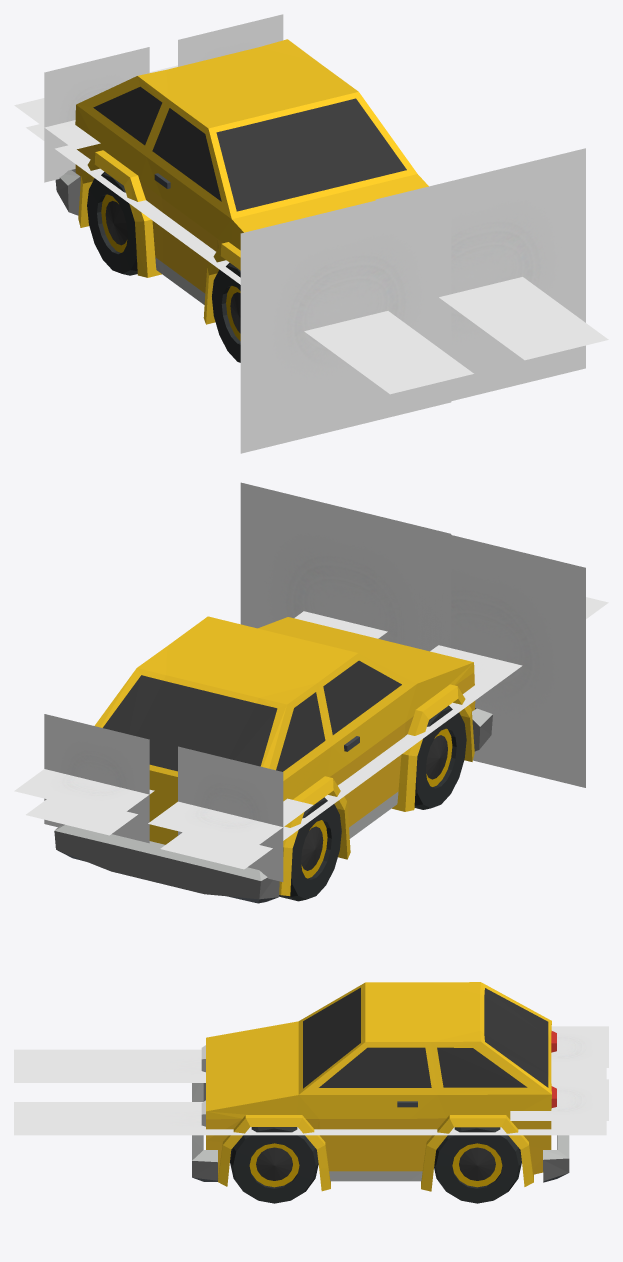
Rendered from SnowHatchback.fbx.
The picture shows the model from 3 angles, top to bottom: view 1: azimuth 30°, elevation 25°; view 2: azimuth 150°, elevation 25°; view 3: azimuth 270°, elevation 25°; orthographic projection. The views are drawn at different scales.
Visible parts, largest first — view 1: StopLightBillboard (×7), BodyMesh, Wheel (×2); view 2: StopLightBillboard (×8), BodyMesh, Wheel (×2); view 3: BodyMesh, StopLightBillboard (×4), Wheel (×2).
Part boxes in pixels (bbox=[...]): StopLightBillboard (×7): bbox=[14, 14, 608, 453]; BodyMesh: bbox=[55, 39, 428, 324]; Wheel (×2): bbox=[87, 172, 240, 362]; StopLightBillboard (×8): bbox=[14, 482, 608, 881]; BodyMesh: bbox=[54, 616, 492, 903]; Wheel (×2): bbox=[279, 705, 466, 901]; BodyMesh: bbox=[192, 982, 569, 1191]; StopLightBillboard (×4): bbox=[14, 1026, 608, 1135]; Wheel (×2): bbox=[230, 1127, 521, 1203].
Bounding box in the file's own units: 1.64 × 1 × 3.01.
Materials: 3 (3 with a texture image).
